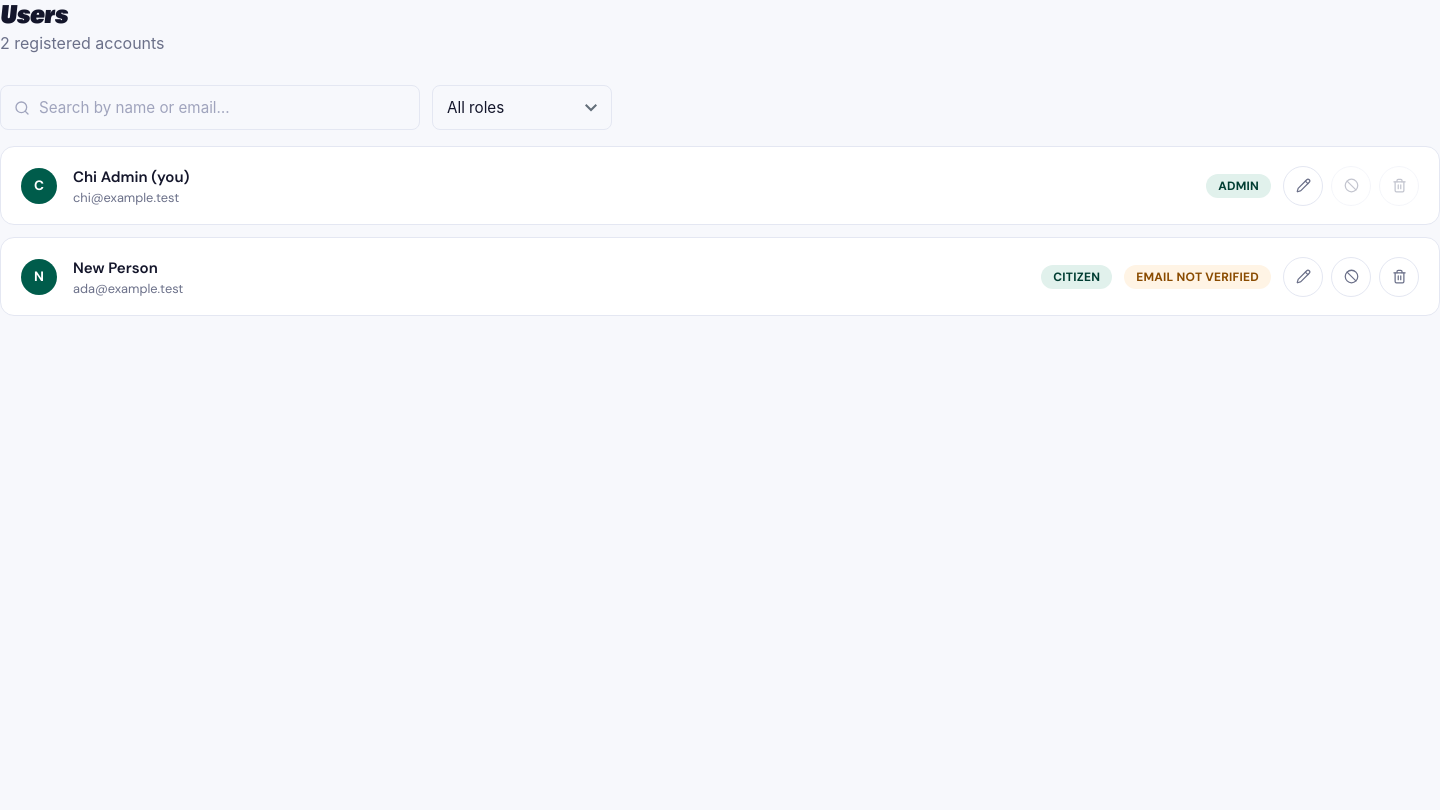
Test: UsersPage › marks unverified accounts, and will not give them a staff role
This screenshot has width=1440, height=810.
Expected: the text "New Person" is shown, 73,258 -> 158,278
Expected: the text "Email not verified" is shown, 1124,264 -> 1271,288
Click the button named "Edit user" next to "Email not verified" at {"x": 1303, "y": 276}, box 1283,256 -> 1323,296
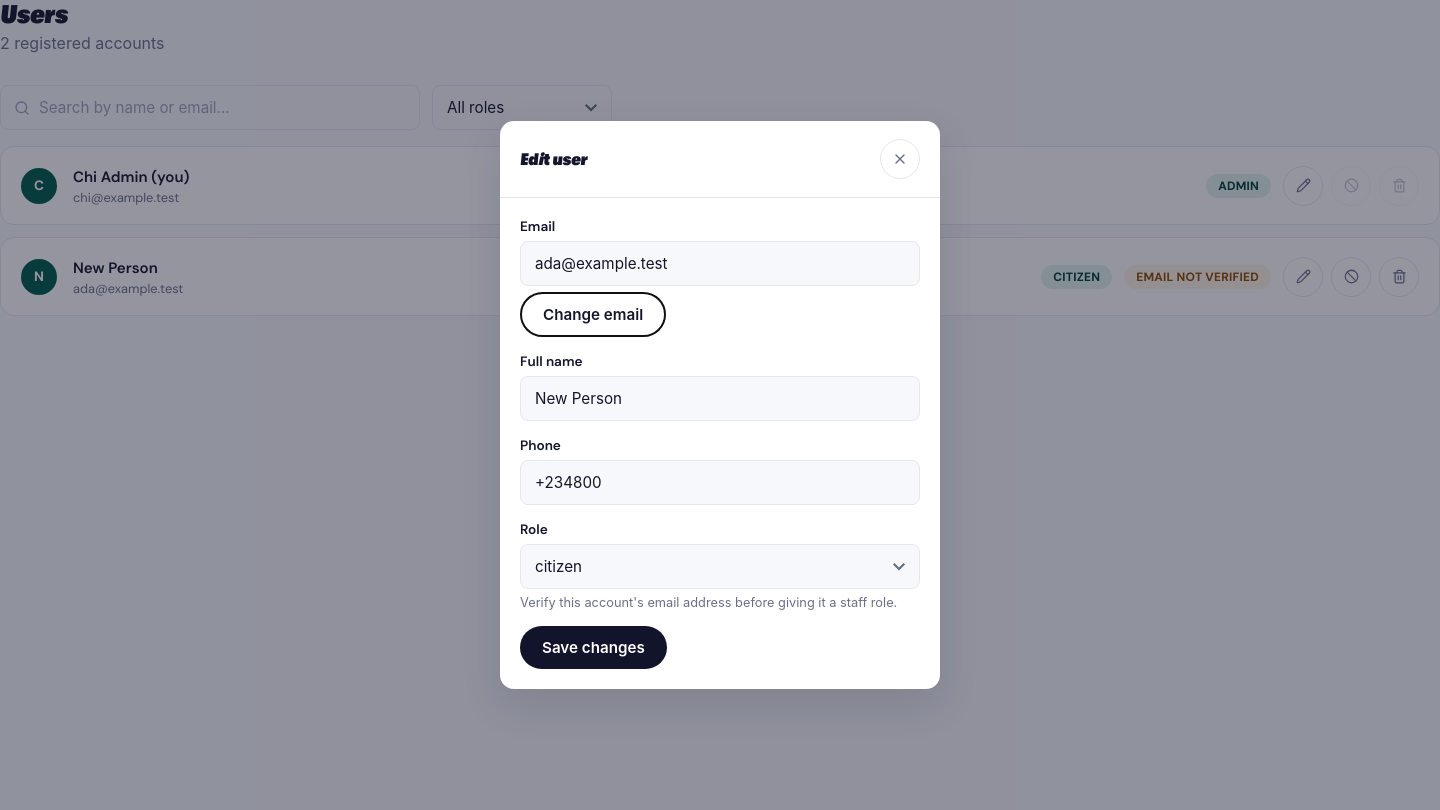
Expected: the text "Verify this account's email address before giving it a staff role." is shown, 520,595 -> 920,610
